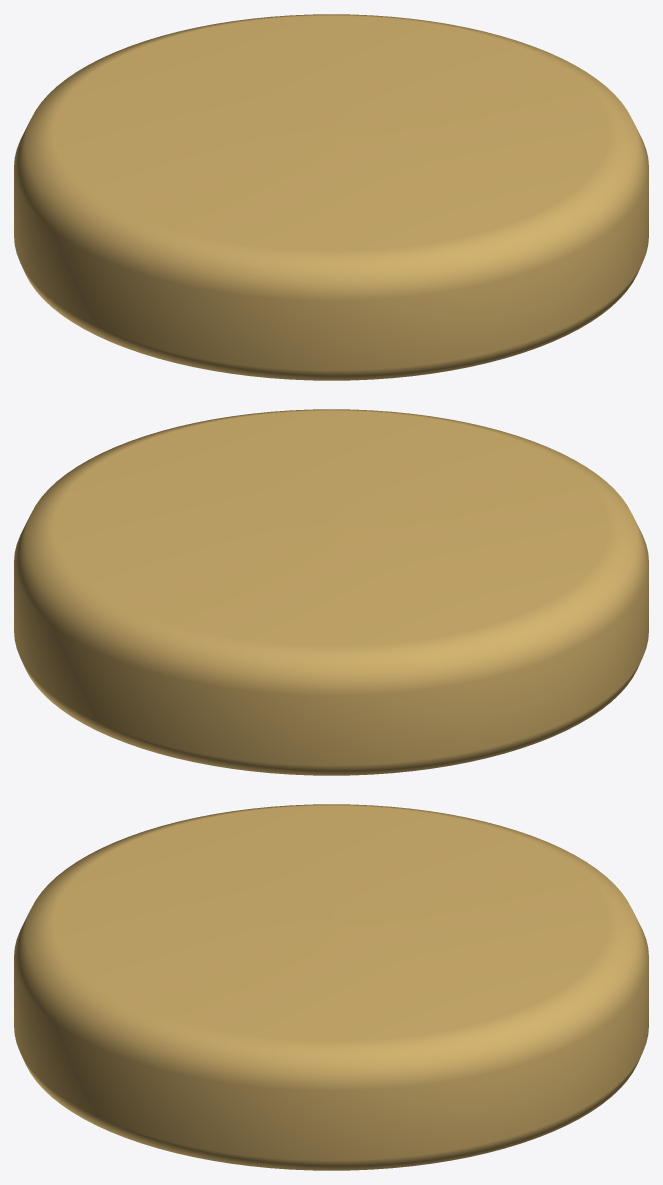
Rendered from red-jar-lid.glb.
3 views of the same model, one above another, from view 1: azimuth 30°, elevation 25°; view 2: azimuth 150°, elevation 25°; view 3: azimuth 270°, elevation 25° (orthographic).
Bounding box in the file's own units: 2.24 × 0.49 × 2.24.
1 material, 1 textured.
